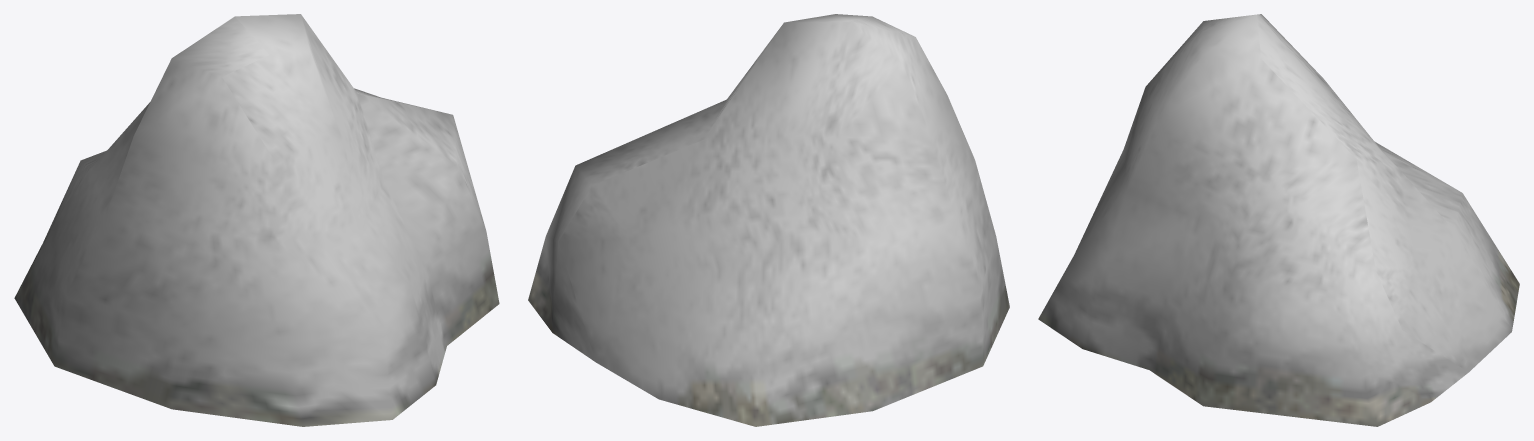
File: general_obj_stone06.fbx
3 renders of one model, left to right at view 1: azimuth 30°, elevation 25°; view 2: azimuth 150°, elevation 25°; view 3: azimuth 270°, elevation 25°, orthographic. The views are drawn at different scales.
Visible parts, largest first — view 1: Sphere01; view 2: Sphere01; view 3: Sphere01.
Part boxes in pixels (left/top/right/bottom): Sphere01: left=14, top=14, right=499, bottom=426; Sphere01: left=528, top=14, right=1009, bottom=426; Sphere01: left=1038, top=14, right=1519, bottom=426.
Size of the model in its own units: 3.85 by 2.67 by 4.03.
